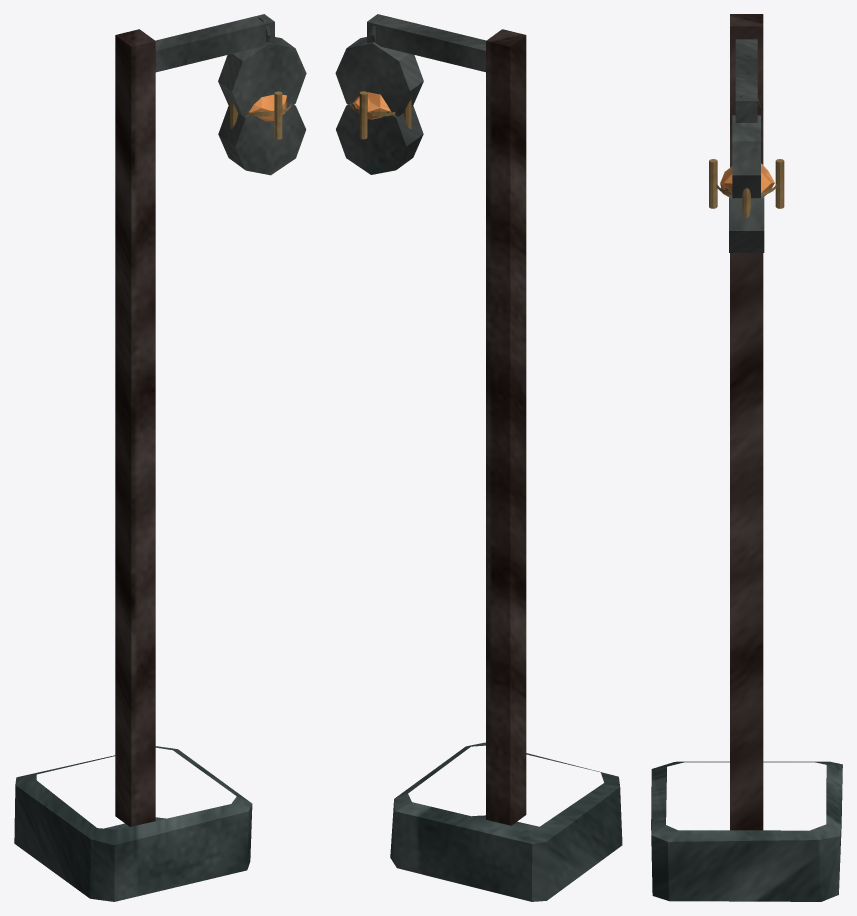
File: 0716_lantern_post_16.glb
3 views of the same model, side by side, from view 1: azimuth 30°, elevation 25°; view 2: azimuth 150°, elevation 25°; view 3: azimuth 270°, elevation 25° (orthographic). The views are drawn at different scales.
Visible parts, largest first — view 1: wood_dark, stone_dark, iron, brass; view 2: wood_dark, stone_dark, iron, brass; view 3: wood_dark, stone_dark, iron, brass, amber.
Part boxes in pixels (<box>): wood_dark: <box>115,29,155,826</box>; stone_dark: <box>14,746,252,901</box>; iron: <box>155,14,306,175</box>; brass: <box>230,91,291,139</box>; wood_dark: <box>486,29,526,825</box>; stone_dark: <box>390,742,622,901</box>; iron: <box>335,14,486,174</box>; brass: <box>350,91,411,139</box>; wood_dark: <box>730,14,763,830</box>; stone_dark: <box>651,761,842,901</box>; iron: <box>729,39,764,252</box>; brass: <box>709,159,784,218</box>; amber: <box>720,163,774,196</box>.
Bounding box in the file's own units: 1.31 × 4.2 × 0.862.
Materials: 5 (5 with a texture image).
